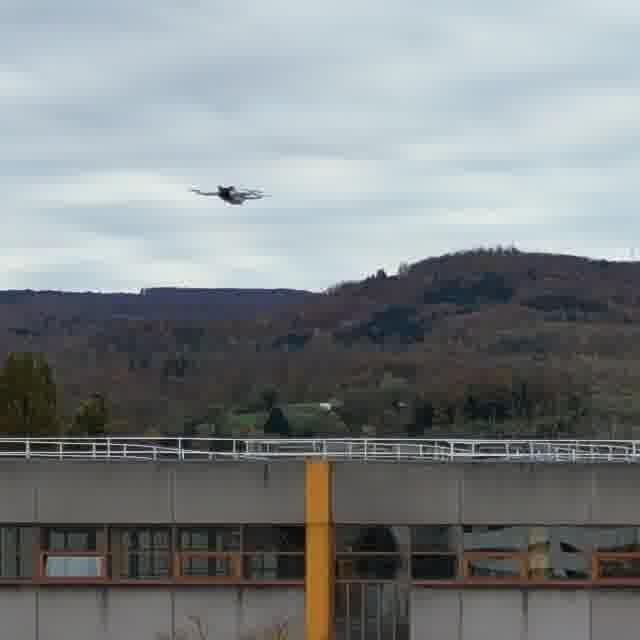Drohne: (191, 185, 269, 204)
